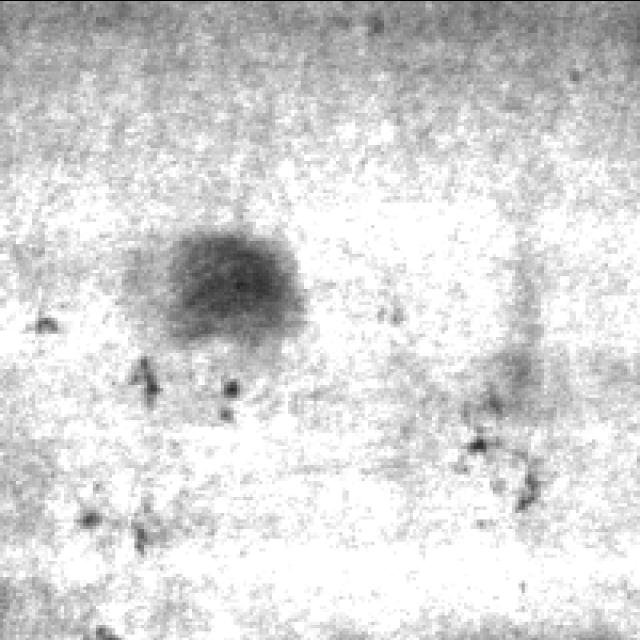patches: (132, 216, 308, 358), (454, 392, 558, 518)
